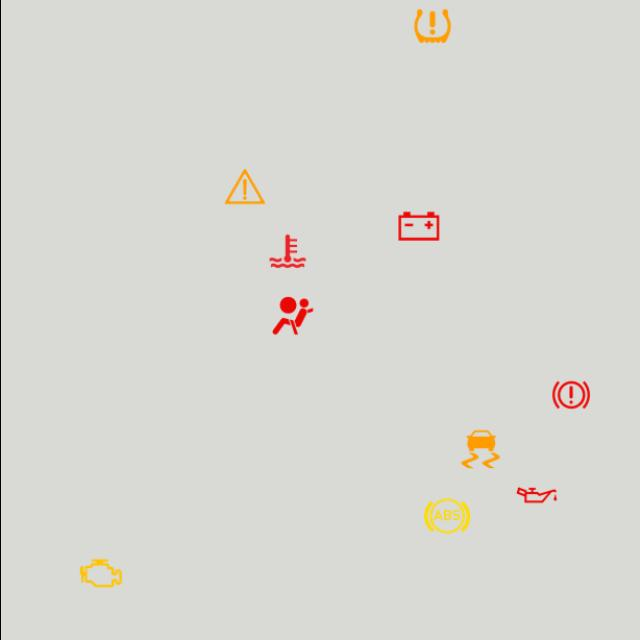Anti Lock Braking System: (421, 491, 471, 541)
Braking System Issue: (545, 370, 595, 420)
Charging System Issue: (393, 201, 443, 251)
Check Engine: (75, 548, 125, 598)
Electronic Stability Problem -ESP-: (454, 424, 504, 474)
Engine Overheating Warning Light: (262, 226, 312, 276)
Low Engine Oil Warning Light: (511, 470, 561, 520)
Low Tire Pressure Warning Light: (406, 1, 456, 51)
Master warning light: (219, 162, 269, 212)
SRS-Airbag: (267, 291, 317, 341)
